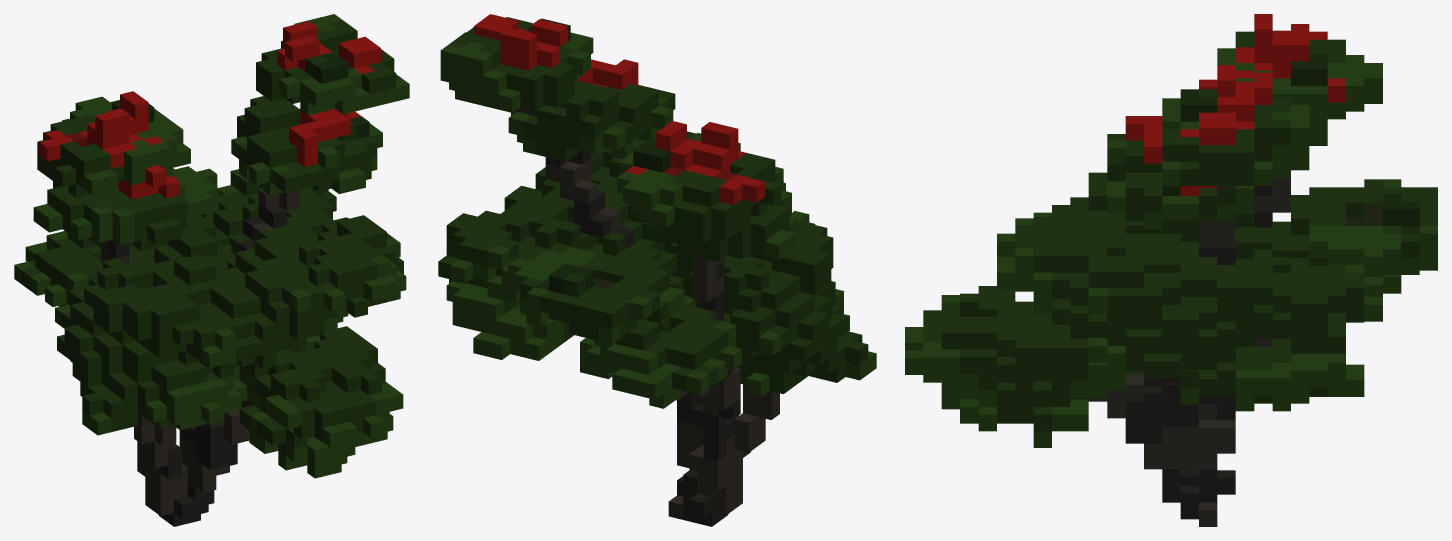
Rendered from arvore_folhas_largas_01_LOD4.fbx.
The picture shows the model from 3 angles, left to right: view 1: azimuth 30°, elevation 25°; view 2: azimuth 150°, elevation 25°; view 3: azimuth 270°, elevation 25°; orthographic projection. The views are drawn at different scales.
Parts seen in each view (by area): view 1: arvore_folhas_largas_01_LOD4; view 2: arvore_folhas_largas_01_LOD4; view 3: arvore_folhas_largas_01_LOD4.
Boxes of the visible parts, x1,y1,x2,y2 form: arvore_folhas_largas_01_LOD4: (14, 14, 409, 526); arvore_folhas_largas_01_LOD4: (438, 14, 876, 526); arvore_folhas_largas_01_LOD4: (905, 14, 1437, 526).
Size of the model in its own units: 750 by 930 by 870.
